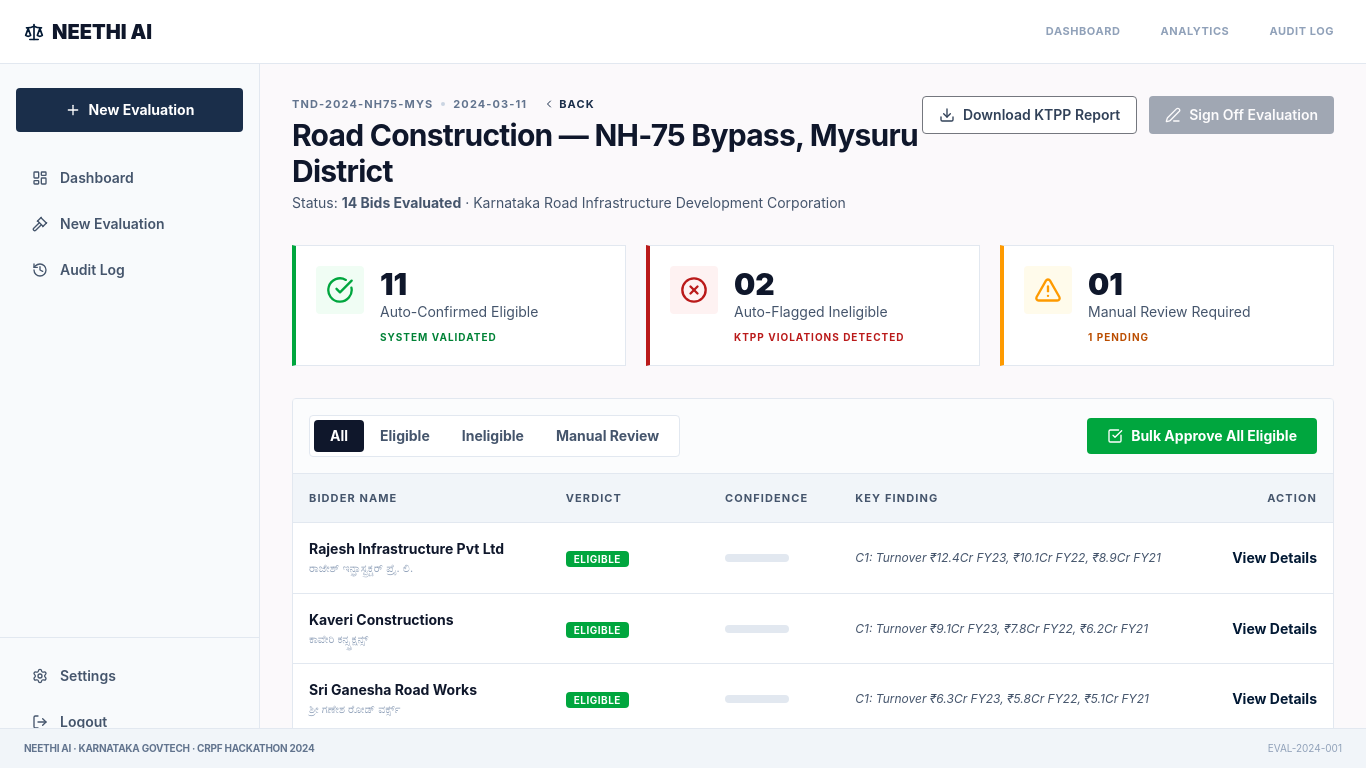
Test: VerdictDashboard — mockData mode › filter Manual Review shows 1 of 14 bidders
Click the button "Manual Review": (608, 436) [540,420,675,452]
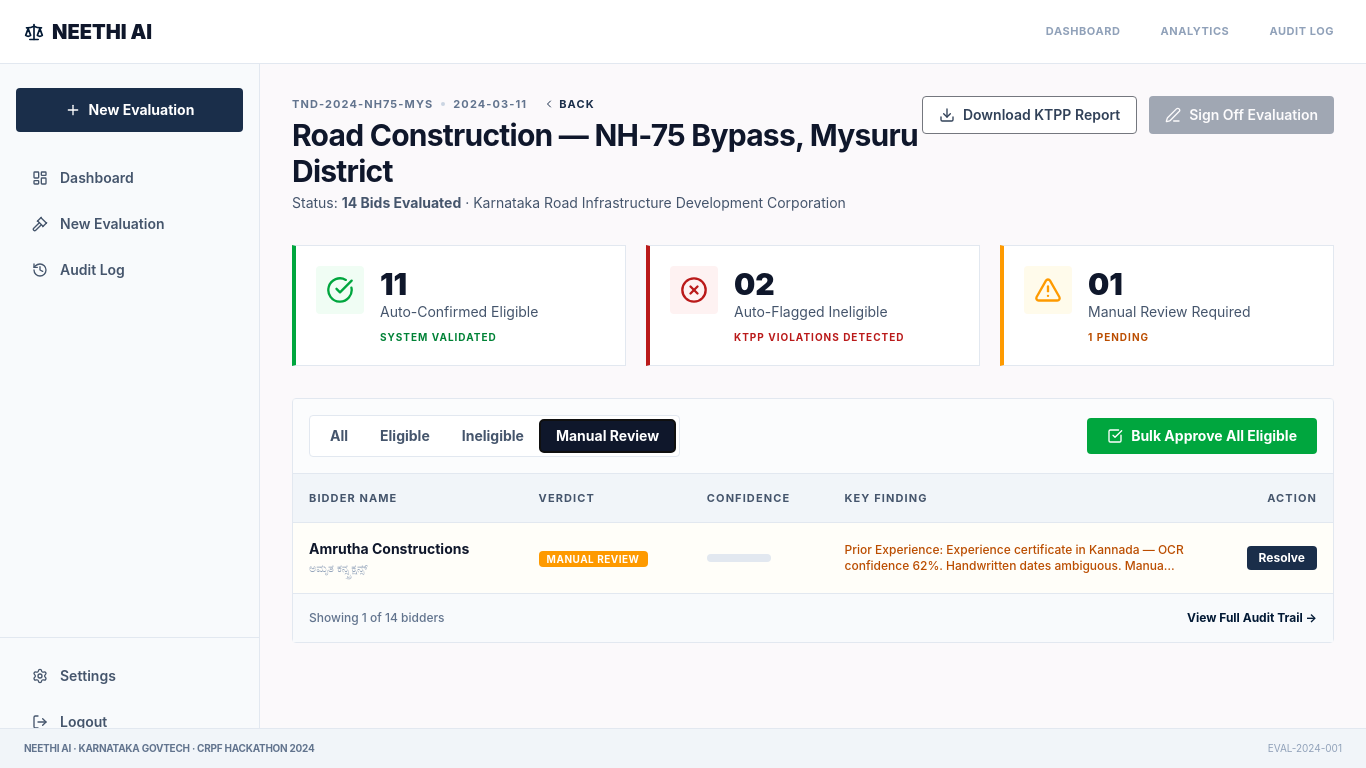
Expected: the text "Showing 1 of 14 bidders" is shown, [309,610,444,626]
